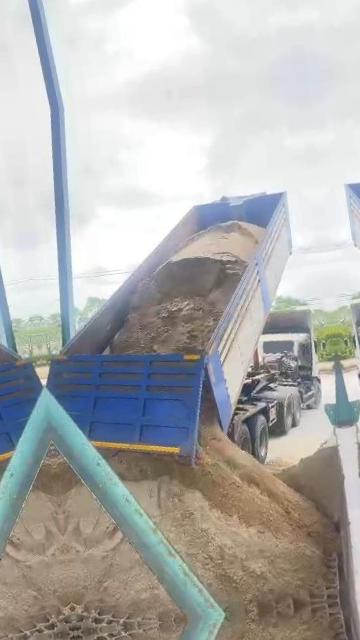sand: (108, 409, 338, 612), (51, 440, 183, 620), (111, 221, 264, 353), (278, 445, 343, 522), (266, 457, 296, 475)
